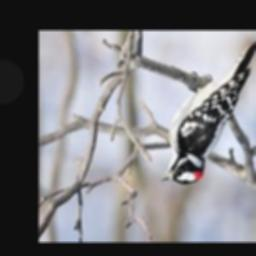Woodpecker: (158, 40, 256, 184)
